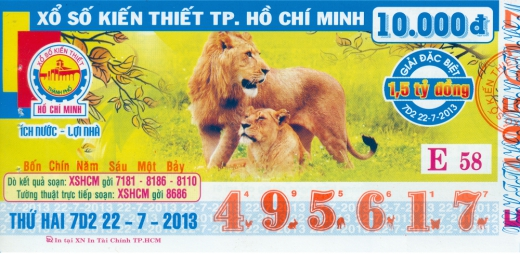serial_zone: (208, 182, 499, 235)
